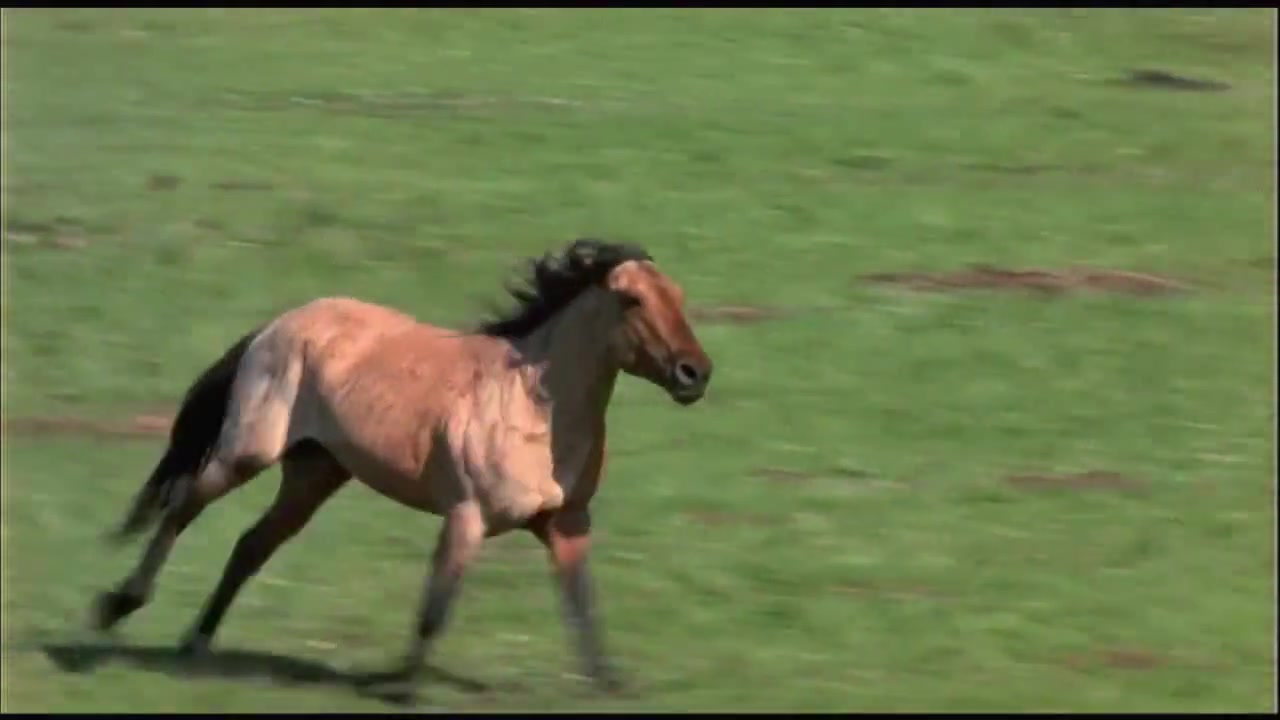horse: (94, 237, 716, 706)
